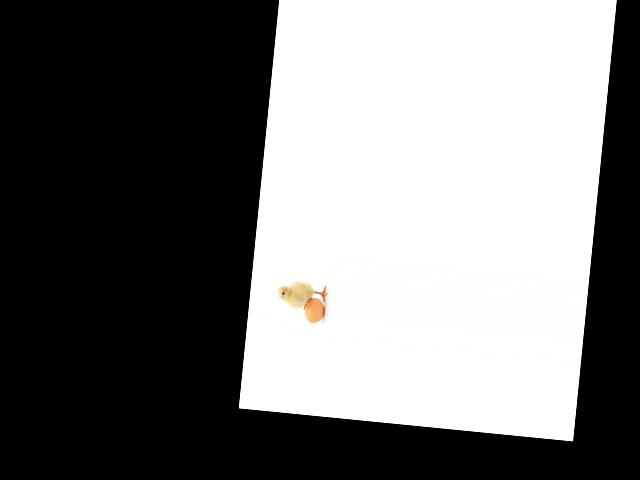egg: (303, 296, 325, 324)
